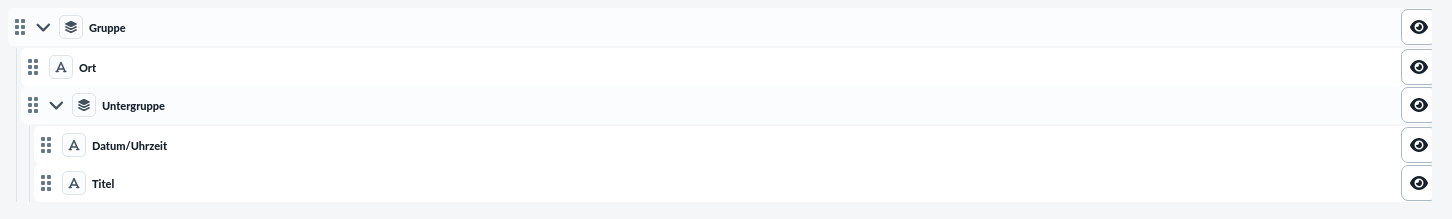
Test: LayoutLayerTree › renders nested groups and collapses every group level independently
The image size is (1452, 219).
Check: the number of buttons with class "inspector-layer-list__drag" is 5, box x1=9 y1=11 x2=31 y2=43; x1=22 y1=51 x2=44 y2=83; x1=22 y1=89 x2=44 y2=121; x1=35 y1=129 x2=57 y2=161; x1=35 y1=167 x2=57 y2=199
Click the 1st button named "Gruppe zuklappen". click: (43, 27)
box: x1=32 y1=16 x2=54 y2=38
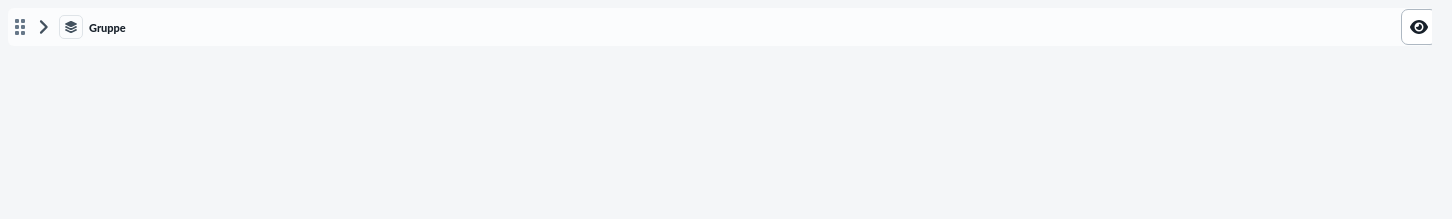
Check: the text "Untergruppe" is gone
Check: the text "Titel" is gone
Click the button named "Gruppe aufklappen". click: (43, 27)
box: x1=32 y1=16 x2=54 y2=38
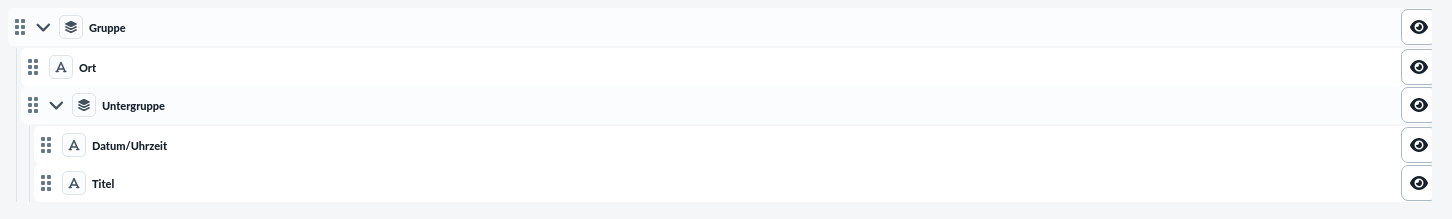
Click the 2nd button named "Gruppe zuklappen". click: (56, 105)
box: x1=45 y1=94 x2=67 y2=116
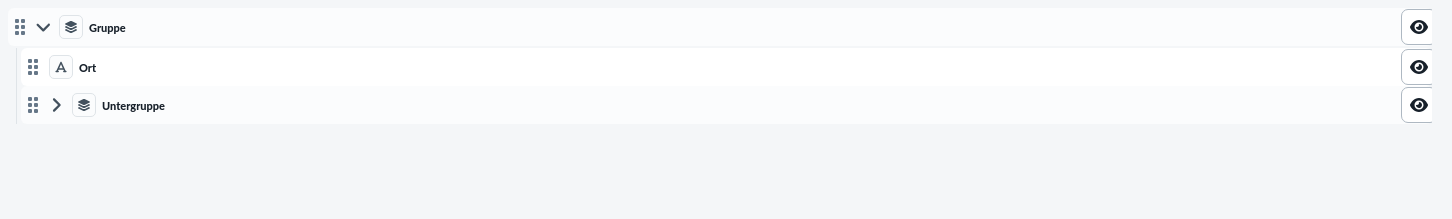
Check: the text "Untergruppe" is shown, box x1=102 y1=98 x2=165 y2=112
Check: the text "Titel" is gone
